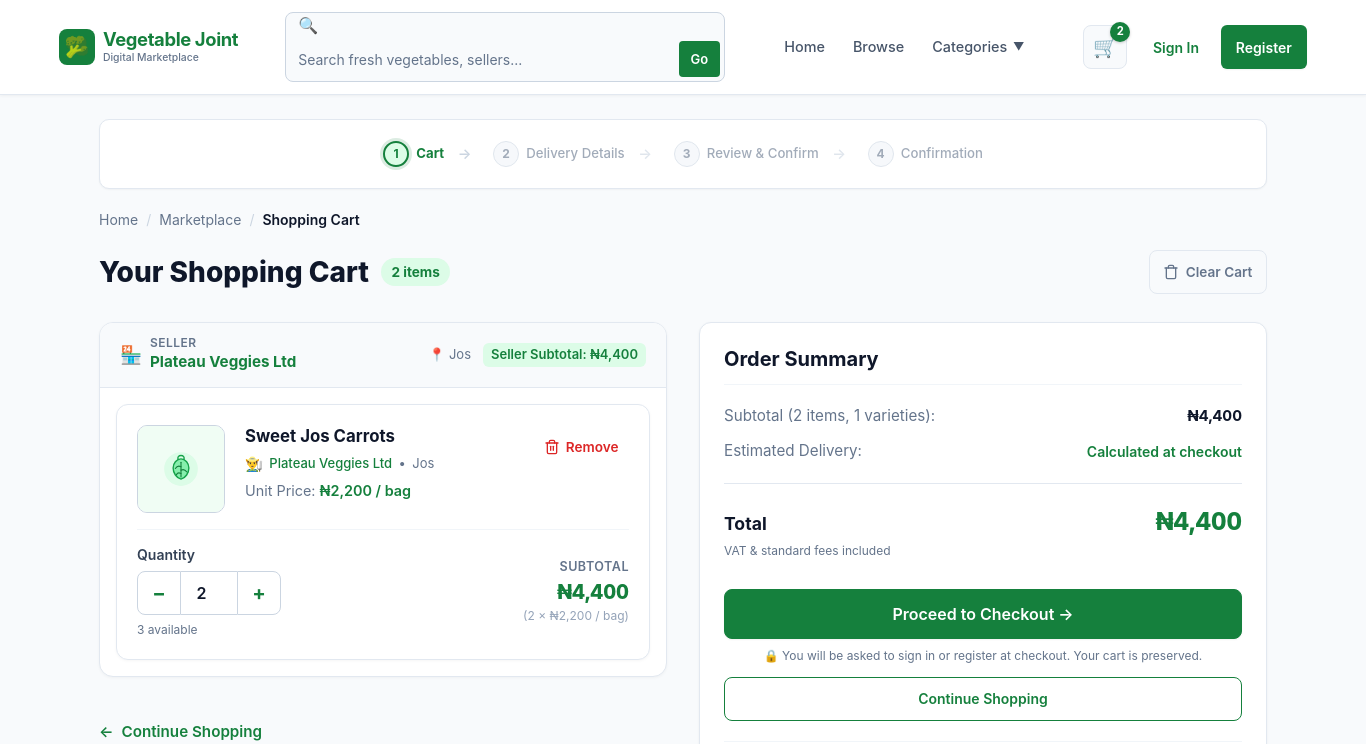
Test: FE-114 E2E: Buyer Purchase Journey (TC-08 to TC-16) › TC-09: Increase quantity in cart (CART-02, CART-04) › prevents quantity from exceeding available stock limit
The width and height of the screenshot is (1366, 744).
Click the button named "increase quantity".
click(259, 593)  # box left=237, top=571, right=281, bottom=615
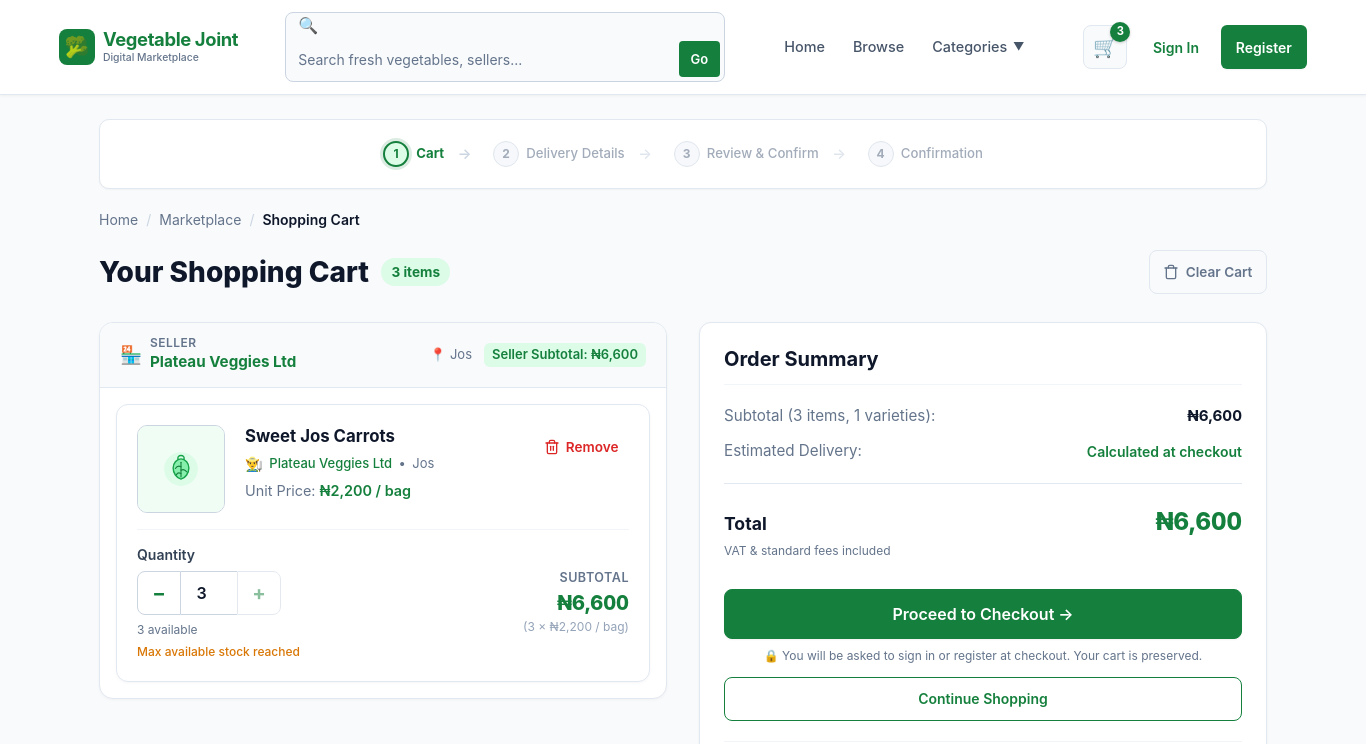
Check: the button named "increase quantity" is disabled, box left=237, top=571, right=281, bottom=615
